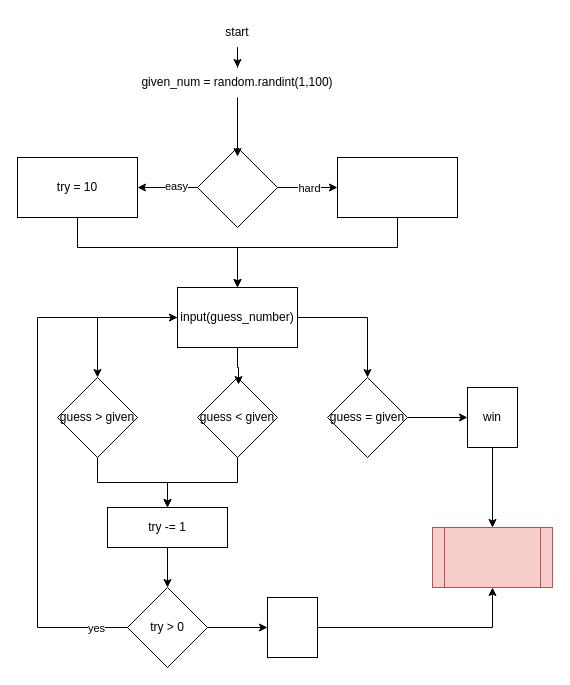
This 570x685 diagram has some shape labels left out. Here are the shapes that lost their labels. From the top down, the box of each, then its label:
(196, 146, 278, 228): Level
(336, 156, 458, 218): try = 5
(432, 526, 552, 588): game over
(266, 596, 318, 658): lose
